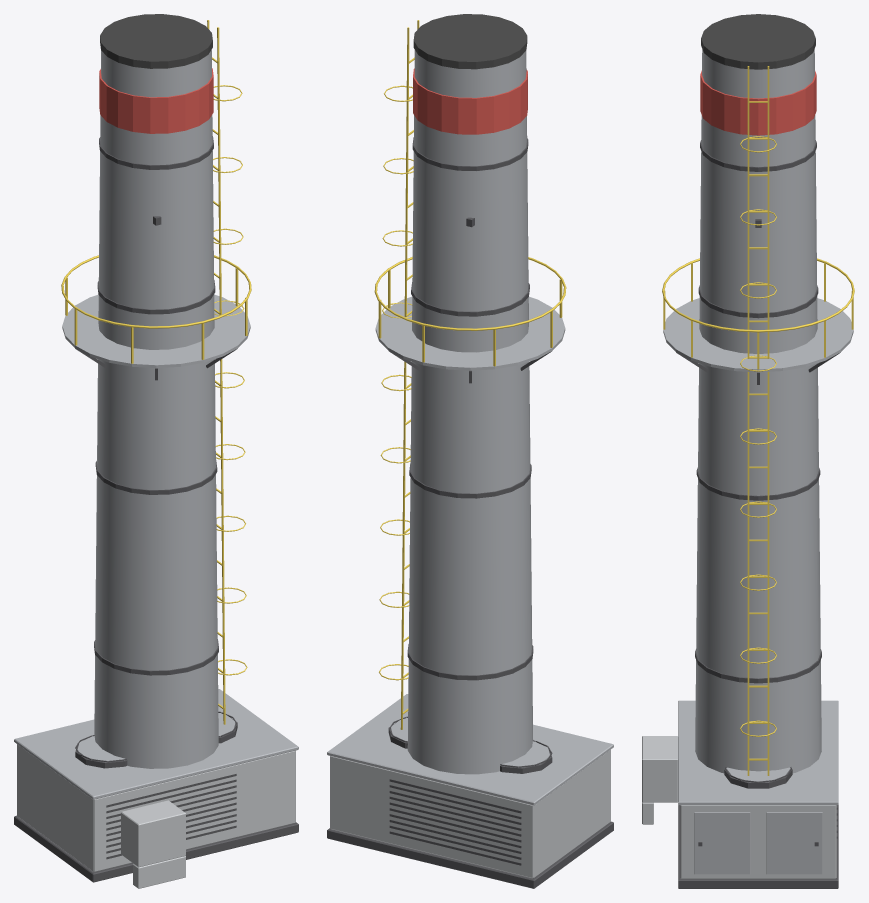
Rendered from factory_roof.glb.
3 renders of one model, left to right at view 1: azimuth 30°, elevation 25°; view 2: azimuth 150°, elevation 25°; view 3: azimuth 270°, elevation 25°, orthographic.
Visible parts, largest first — view 1: fr_stack_mesh, fr_unit_mesh; view 2: fr_stack_mesh, fr_unit_mesh; view 3: fr_stack_mesh, fr_unit_mesh.
Boxes of the visible parts, left/top/right/bottom form: fr_stack_mesh: left=61, top=14, right=251, bottom=768; fr_unit_mesh: left=14, top=689, right=298, bottom=888; fr_stack_mesh: left=374, top=14, right=566, bottom=774; fr_unit_mesh: left=327, top=694, right=613, bottom=888; fr_stack_mesh: left=662, top=14, right=854, bottom=775; fr_unit_mesh: left=642, top=700, right=838, bottom=888.
Bounding box in the file's own units: 6.03 × 22 × 5.3.
